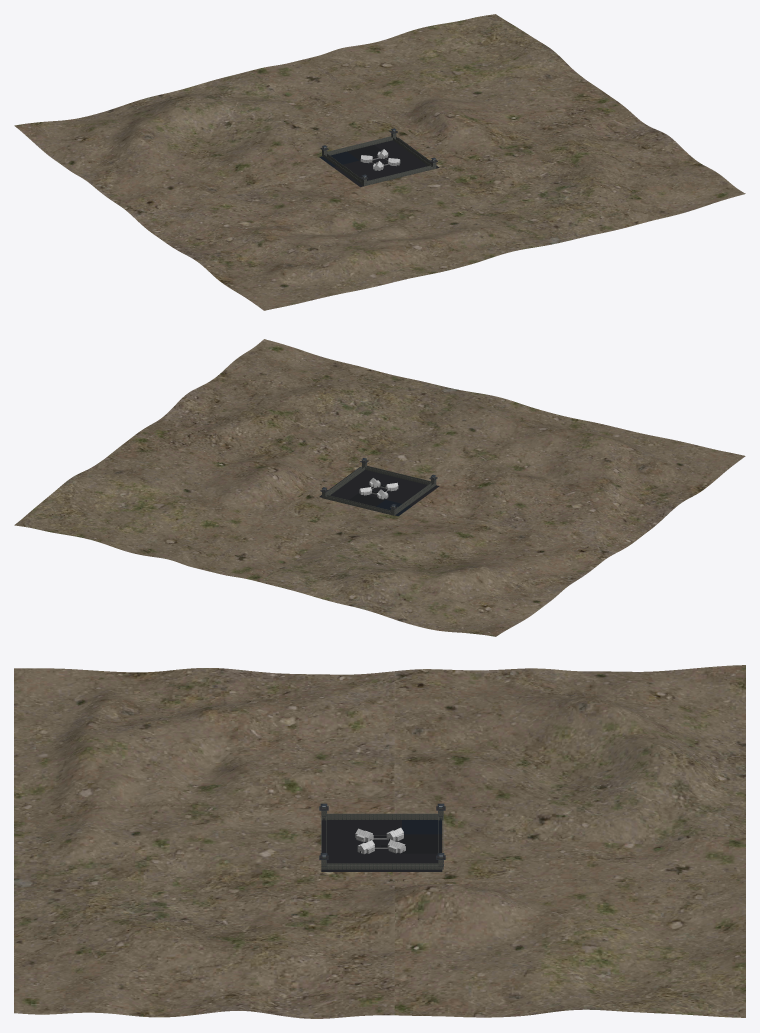
The model's file is finalmap.glb.
3 renders of one model, top to bottom at view 1: azimuth 30°, elevation 25°; view 2: azimuth 150°, elevation 25°; view 3: azimuth 270°, elevation 25°, orthographic. The views are drawn at different scales.
Visible parts, largest first — view 1: desert_environment03_terrain_grass_dirt_0.001, desert_environment02_terrain_grass_dirt_0.001, desert_environment01_terrain_grass_dirt_0.001, desert_environment00_terrain_grass_dirt_0.001, ground07_Prison_atlas_0.001; view 2: desert_environment02_terrain_grass_dirt_0.001, desert_environment03_terrain_grass_dirt_0.001, desert_environment01_terrain_grass_dirt_0.001, desert_environment00_terrain_grass_dirt_0.001, ground07_Prison_atlas_0.001; view 3: desert_environment03_terrain_grass_dirt_0.001, desert_environment02_terrain_grass_dirt_0.001, desert_environment01_terrain_grass_dirt_0.001, desert_environment00_terrain_grass_dirt_0.001, ground07_Prison_atlas_0.001, ground05_Prison_atlas_0.001, ground09_Prison_atlas_0.001, ground11_Prison_atlas_0.001, ground04_Prison_atlas_0.001.
Boxes of the visible parts, left/top/right/bottom form: desert_environment03_terrain_grass_dirt_0.001: left=400, top=100, right=745, bottom=253; desert_environment02_terrain_grass_dirt_0.001: left=134, top=169, right=504, bottom=310; desert_environment01_terrain_grass_dirt_0.001: left=250, top=14, right=615, bottom=151; desert_environment00_terrain_grass_dirt_0.001: left=14, top=71, right=349, bottom=217; ground07_Prison_atlas_0.001: left=333, top=155, right=402, bottom=178; desert_environment02_terrain_grass_dirt_0.001: left=403, top=399, right=745, bottom=552; desert_environment03_terrain_grass_dirt_0.001: left=134, top=339, right=504, bottom=482; desert_environment01_terrain_grass_dirt_0.001: left=14, top=436, right=362, bottom=581; desert_environment00_terrain_grass_dirt_0.001: left=260, top=504, right=615, bottom=636; ground07_Prison_atlas_0.001: left=358, top=483, right=427, bottom=505; desert_environment03_terrain_grass_dirt_0.001: left=14, top=834, right=395, bottom=1018; desert_environment02_terrain_grass_dirt_0.001: left=14, top=668, right=394, bottom=843; desert_environment01_terrain_grass_dirt_0.001: left=384, top=836, right=745, bottom=1017; desert_environment00_terrain_grass_dirt_0.001: left=394, top=665, right=745, bottom=844; ground07_Prison_atlas_0.001: left=354, top=820, right=401, bottom=853; ground05_Prison_atlas_0.001: left=402, top=834, right=442, bottom=853; ground09_Prison_atlas_0.001: left=338, top=853, right=401, bottom=871; ground11_Prison_atlas_0.001: left=321, top=834, right=354, bottom=852; ground04_Prison_atlas_0.001: left=402, top=818, right=442, bottom=834.
Bounding box in the file's own units: 890 × 35.39 × 800.
191 materials, 138 textured.
